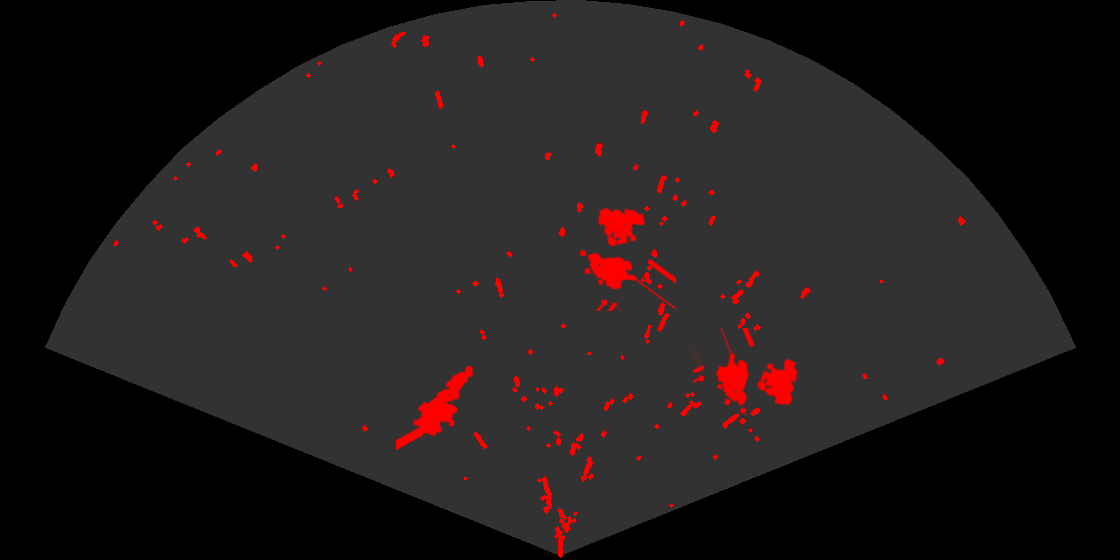cage: (578, 206, 676, 311), (693, 328, 800, 416)
frogman: (396, 364, 475, 450)
